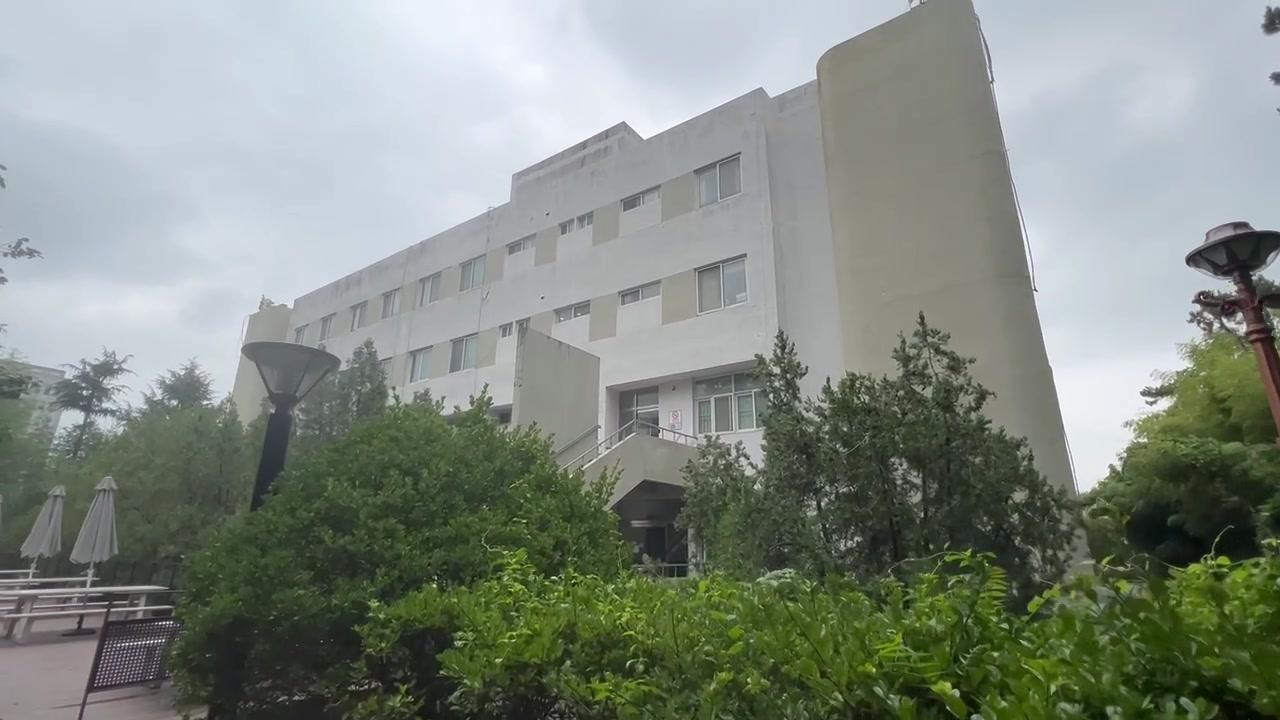building: (382, 36, 1054, 411)
